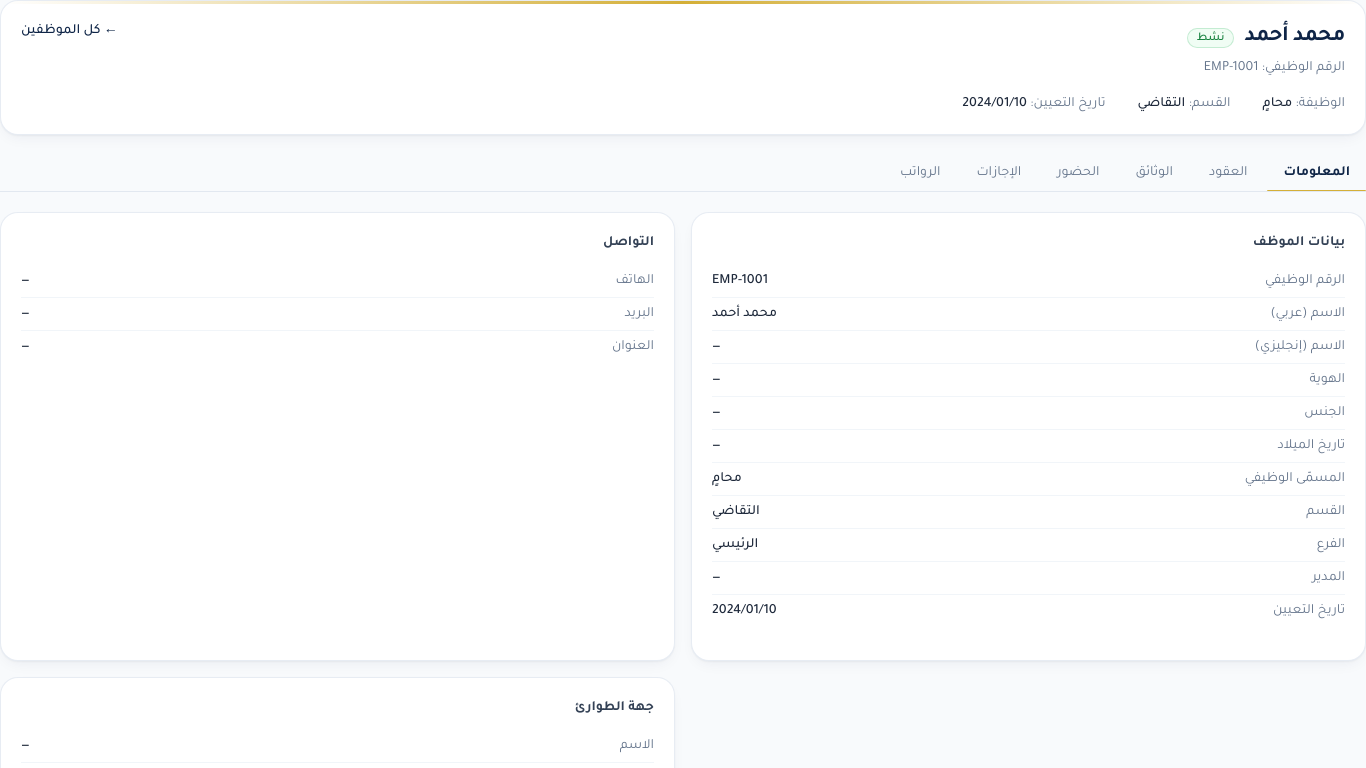
Test: HrEmployeeProfilePage › يتنقّل إلى تبويب العقود ويعرض بياناتها
Expected: the heading "محمد أحمد" is shown, [1244,21,1345,54]
Click the tab "العقود" at (1228, 173), box [1193,155,1264,191]
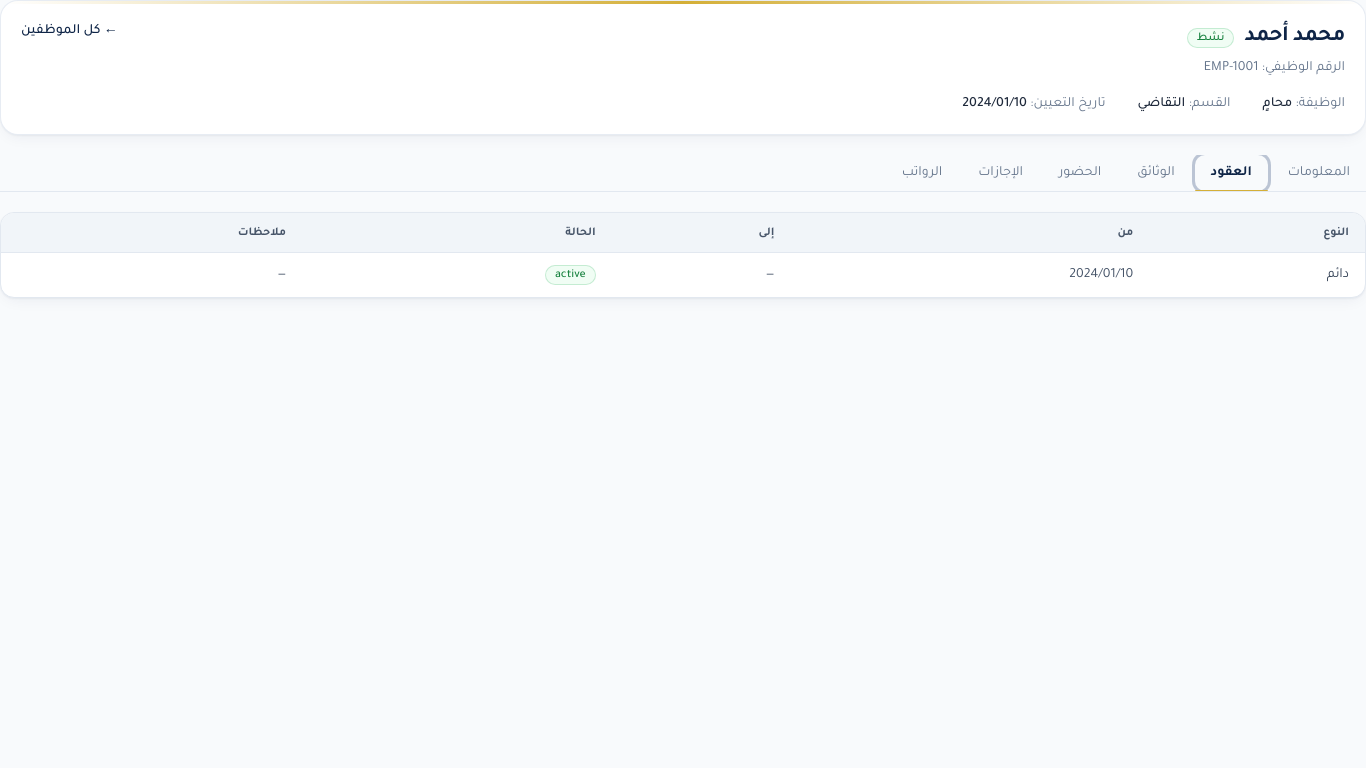
Now the text "دائم" is shown, box [1149,253,1365,297]
